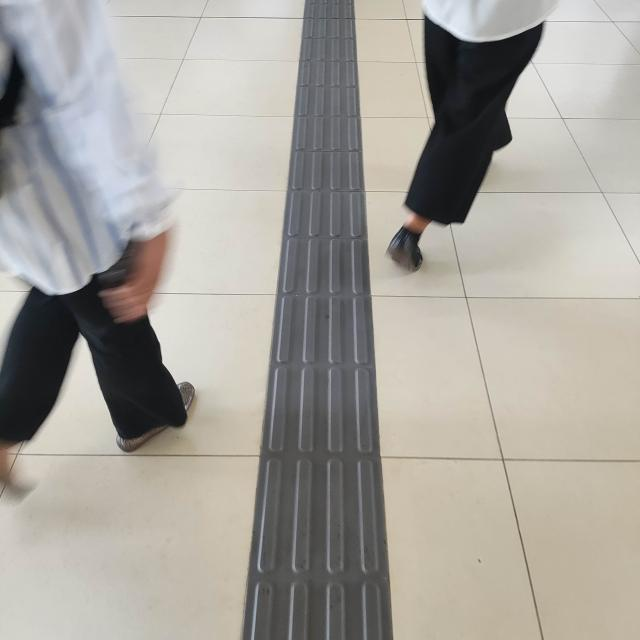lurus: (254, 0, 384, 640)
